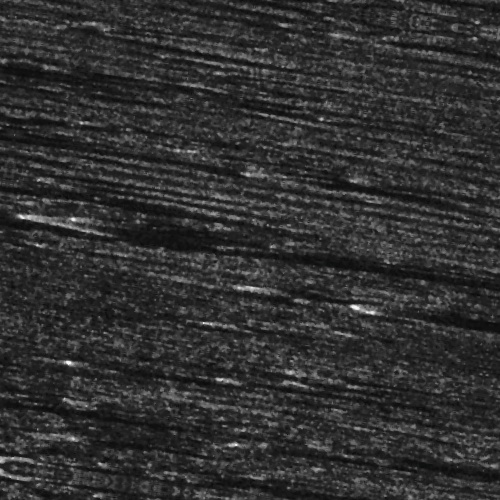object: (317, 278, 452, 297), (0, 480, 158, 493), (309, 8, 362, 37), (28, 237, 111, 254), (55, 453, 128, 464), (39, 382, 132, 389), (207, 376, 290, 383), (272, 358, 355, 365), (0, 427, 40, 440), (249, 437, 302, 446), (206, 323, 259, 328), (22, 270, 75, 275), (0, 199, 47, 204), (217, 246, 270, 249), (190, 477, 243, 480)
shadow: (69, 237, 500, 254), (0, 249, 388, 262), (335, 8, 500, 37), (70, 480, 393, 493), (0, 240, 484, 247), (0, 215, 296, 226), (0, 427, 245, 440), (385, 278, 500, 297), (0, 165, 115, 178), (92, 453, 224, 464), (249, 376, 449, 383), (276, 437, 414, 446), (314, 358, 449, 365), (11, 199, 194, 204), (86, 382, 213, 389), (244, 246, 500, 249), (233, 323, 364, 328), (49, 270, 172, 275), (217, 477, 419, 480), (0, 454, 49, 459), (0, 136, 25, 141), (0, 24, 23, 29), (0, 396, 16, 401)
